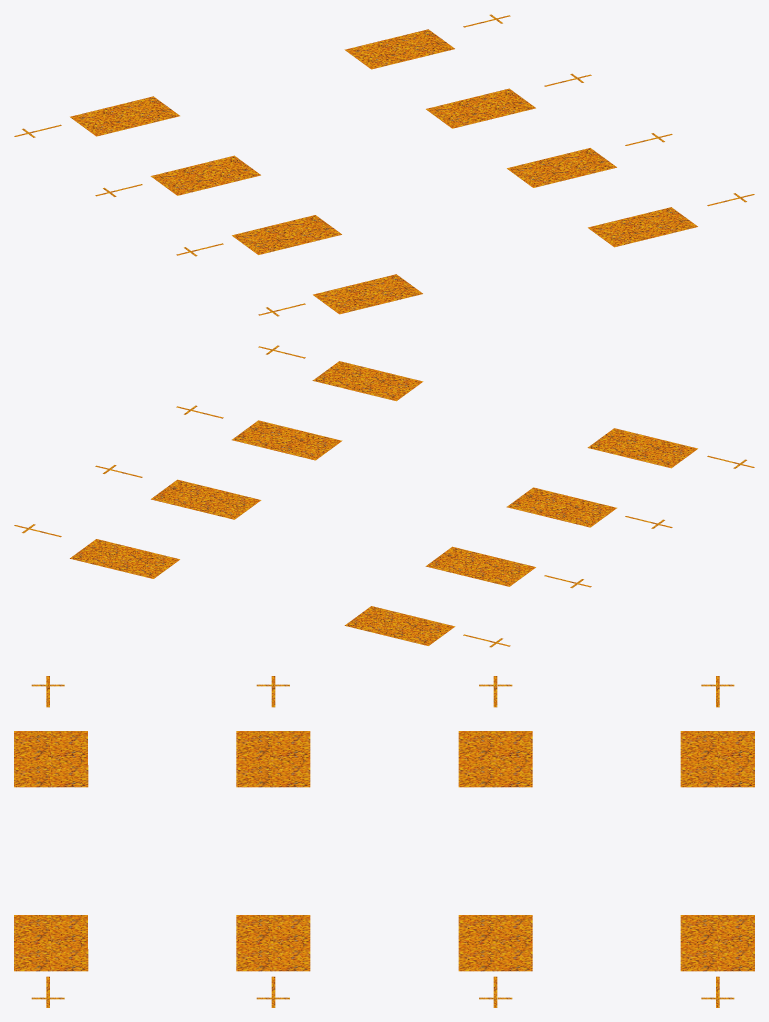
The model's file is cempa.obj.
The picture shows the model from 3 angles, top to bottom: view 1: azimuth 30°, elevation 25°; view 2: azimuth 150°, elevation 25°; view 3: azimuth 270°, elevation 25°; orthographic projection. The views are drawn at different scales.
Visible parts, largest first — view 1: cempa1; view 2: cempa1; view 3: cempa1.
Boxes of the visible parts, <box> form: cempa1: <box>14,14,754,316</box>; cempa1: <box>14,345,754,647</box>; cempa1: <box>14,676,754,1007</box>.
Bounding box in the file's own units: 5.3 × 0.069 × 5.
Materials: 23 (23 with a texture image).
